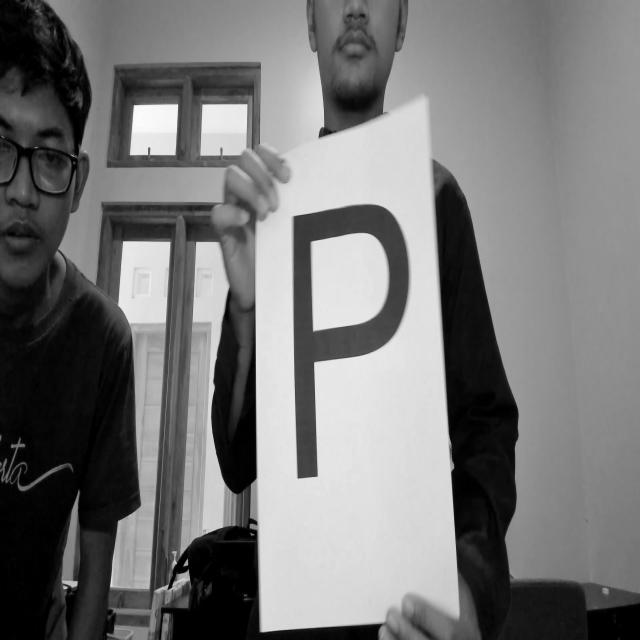p: (264, 169, 428, 511)
